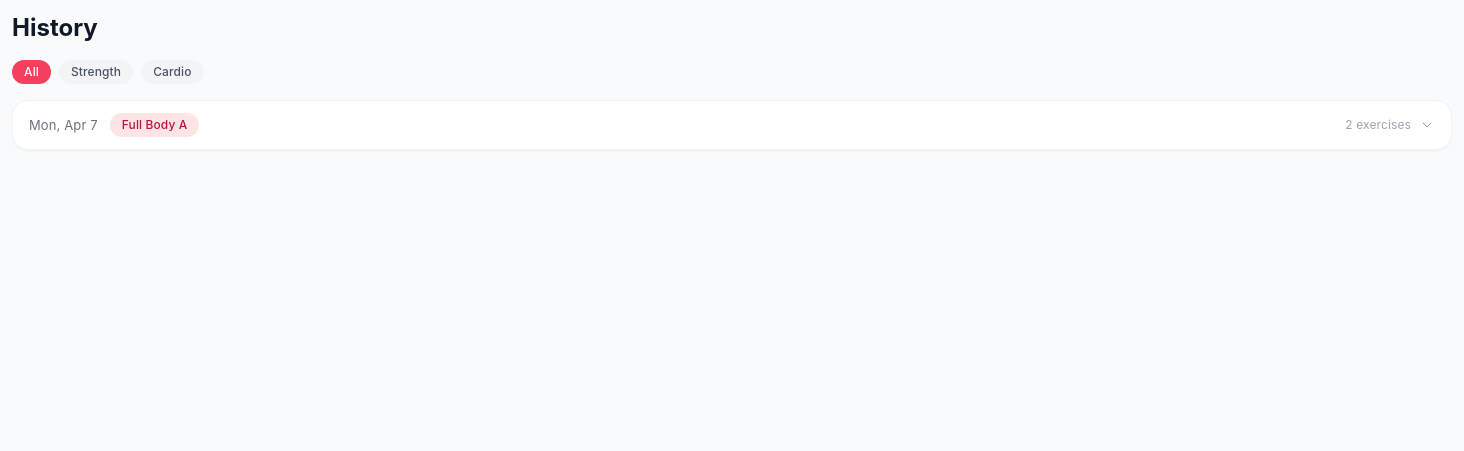
Scenario: History page › clicking a session expands its detail
The width and height of the screenshot is (1464, 451).
Click the button with test id "session-header".
click(63, 125)  # box left=13, top=101, right=1451, bottom=149
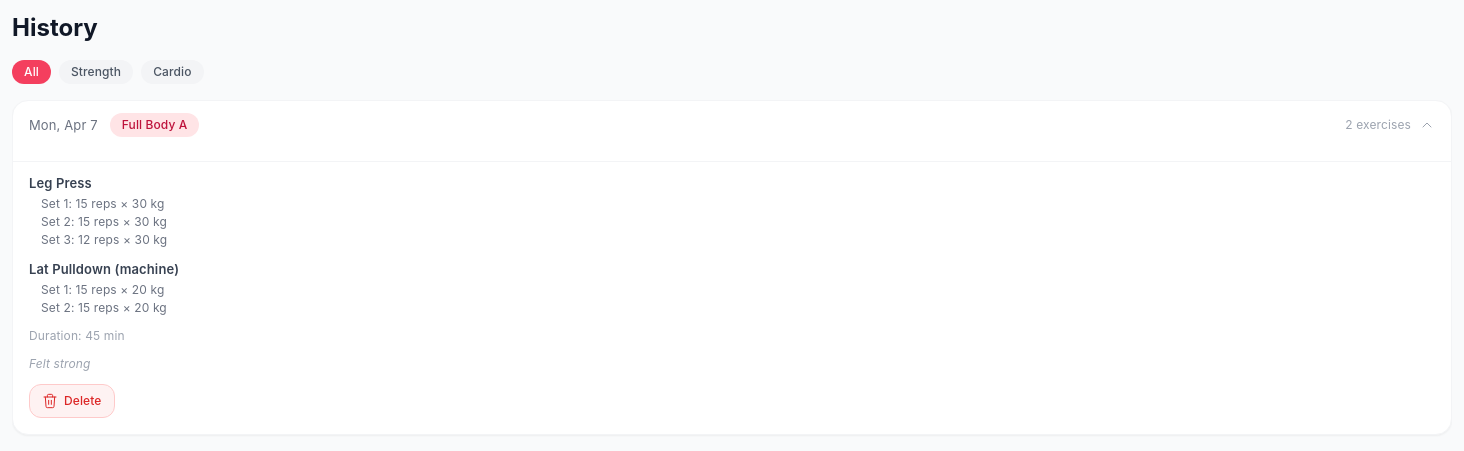
Expected: the element with test id "session-detail" is shown, left=13, top=161, right=1451, bottom=434
